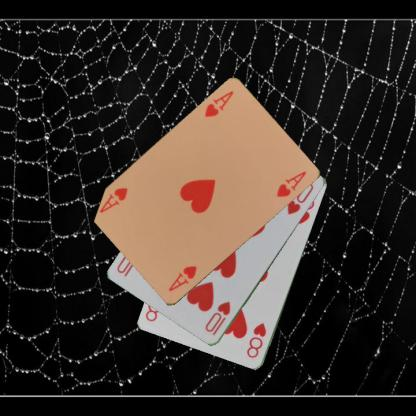10h: (202, 300, 232, 338)
8h: (244, 320, 268, 360)
Ah: (202, 88, 235, 119), (165, 263, 198, 293)
